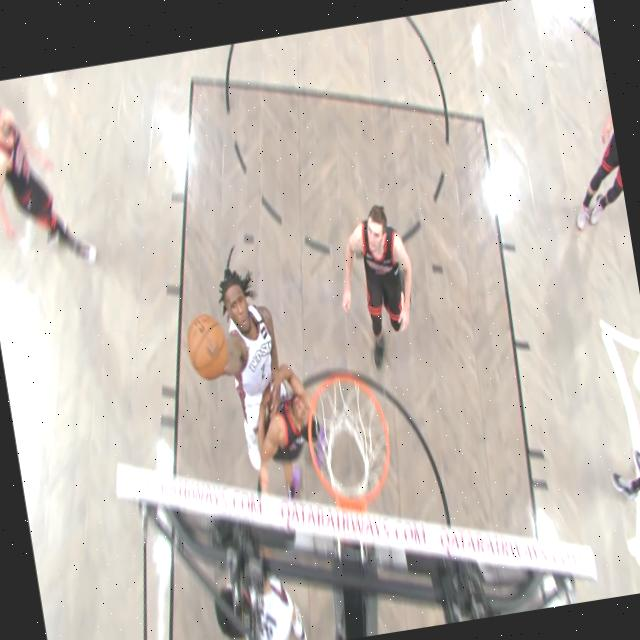foul: (155, 235, 324, 510)
